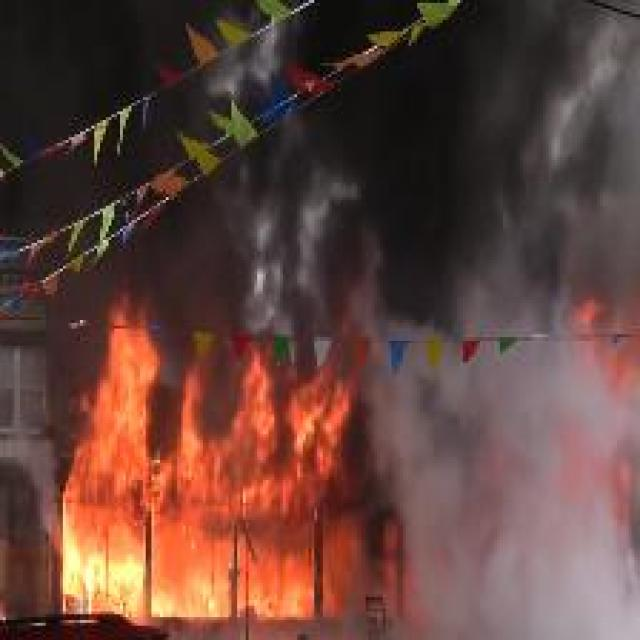fire: (64, 300, 391, 620)
smoke: (399, 83, 640, 640)
